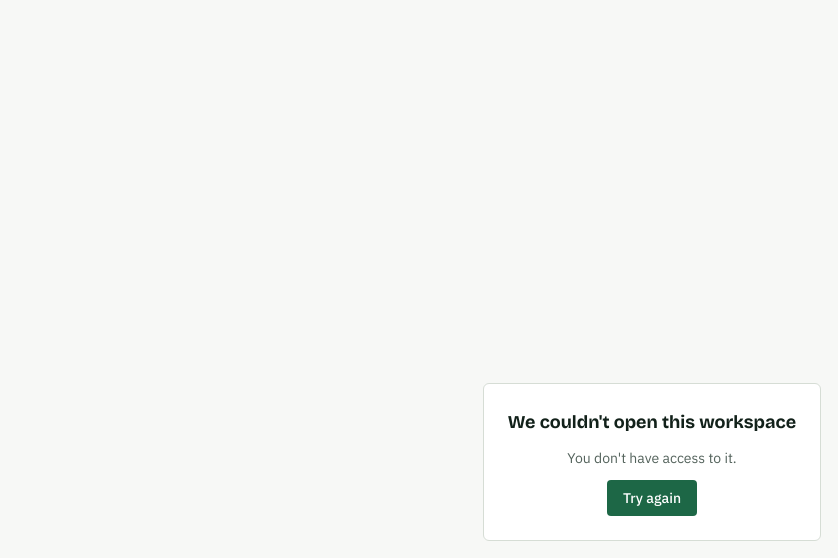
cloud sync › shows a clear message and a retry when loading fails
Check: the text "We couldn't open this workspace" is shown, box x1=508 y1=408 x2=796 y2=436
Click the button "Try again": [652, 498] box x1=607 y1=480 x2=697 y2=516
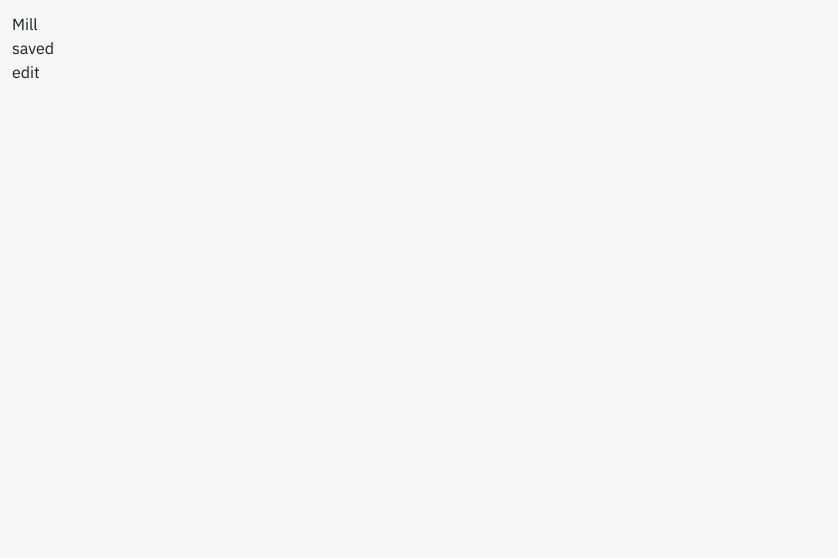
Check: the text with test id "name" reads "Mill", box x1=12 y1=14 x2=38 y2=34
